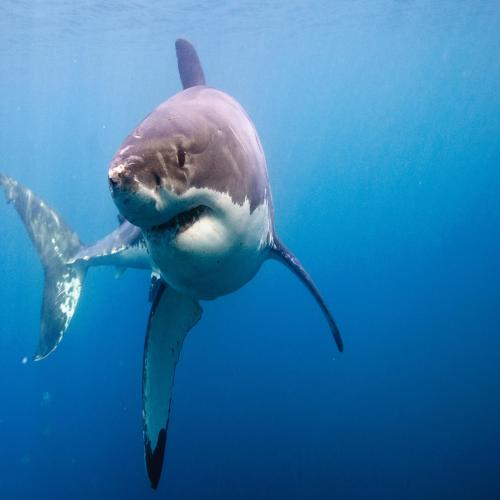shark-endangered: (74, 69, 295, 316)
